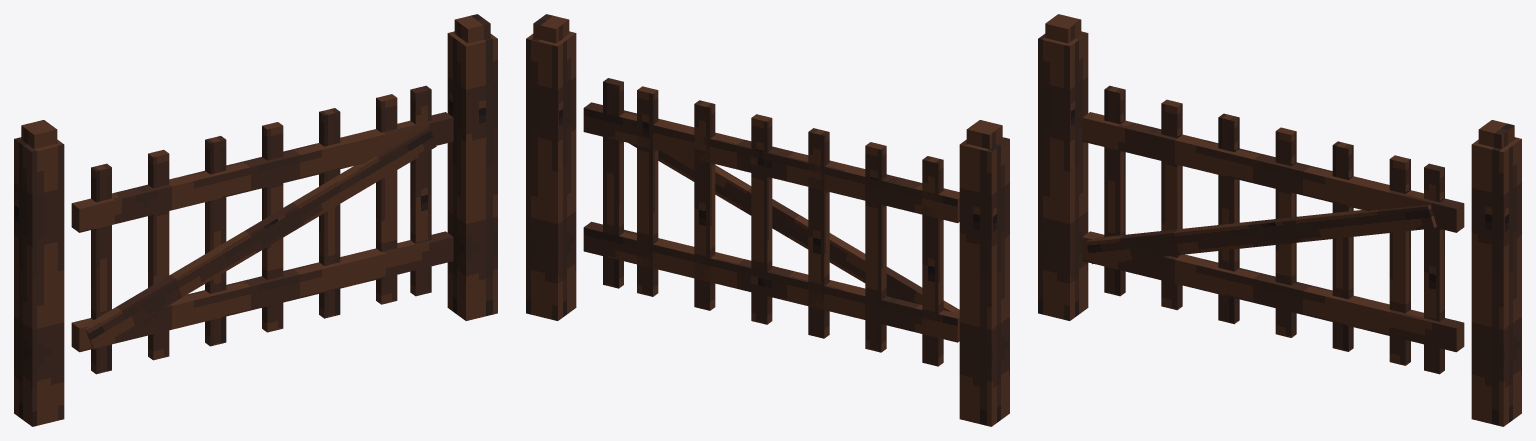
File: MV_Fence_Gate.glb
The picture shows the model from 3 angles, left to right: view 1: azimuth 30°, elevation 25°; view 2: azimuth 150°, elevation 25°; view 3: azimuth 330°, elevation 25°; orthographic projection.
Parts seen in each view (by area): view 1: MV_Fence_Gate_2m_A.MV_Fence_Gate; view 2: MV_Fence_Gate_2m_A.MV_Fence_Gate; view 3: MV_Fence_Gate_2m_A.MV_Fence_Gate.
Boxes of the visible parts, x1,y1,x2,y2 form: MV_Fence_Gate_2m_A.MV_Fence_Gate: [14, 14, 497, 426]; MV_Fence_Gate_2m_A.MV_Fence_Gate: [526, 14, 1009, 426]; MV_Fence_Gate_2m_A.MV_Fence_Gate: [1038, 14, 1521, 426].
Bounding box in the file's own units: 2.04 × 1.21 × 0.17.
1 material, 1 textured.
